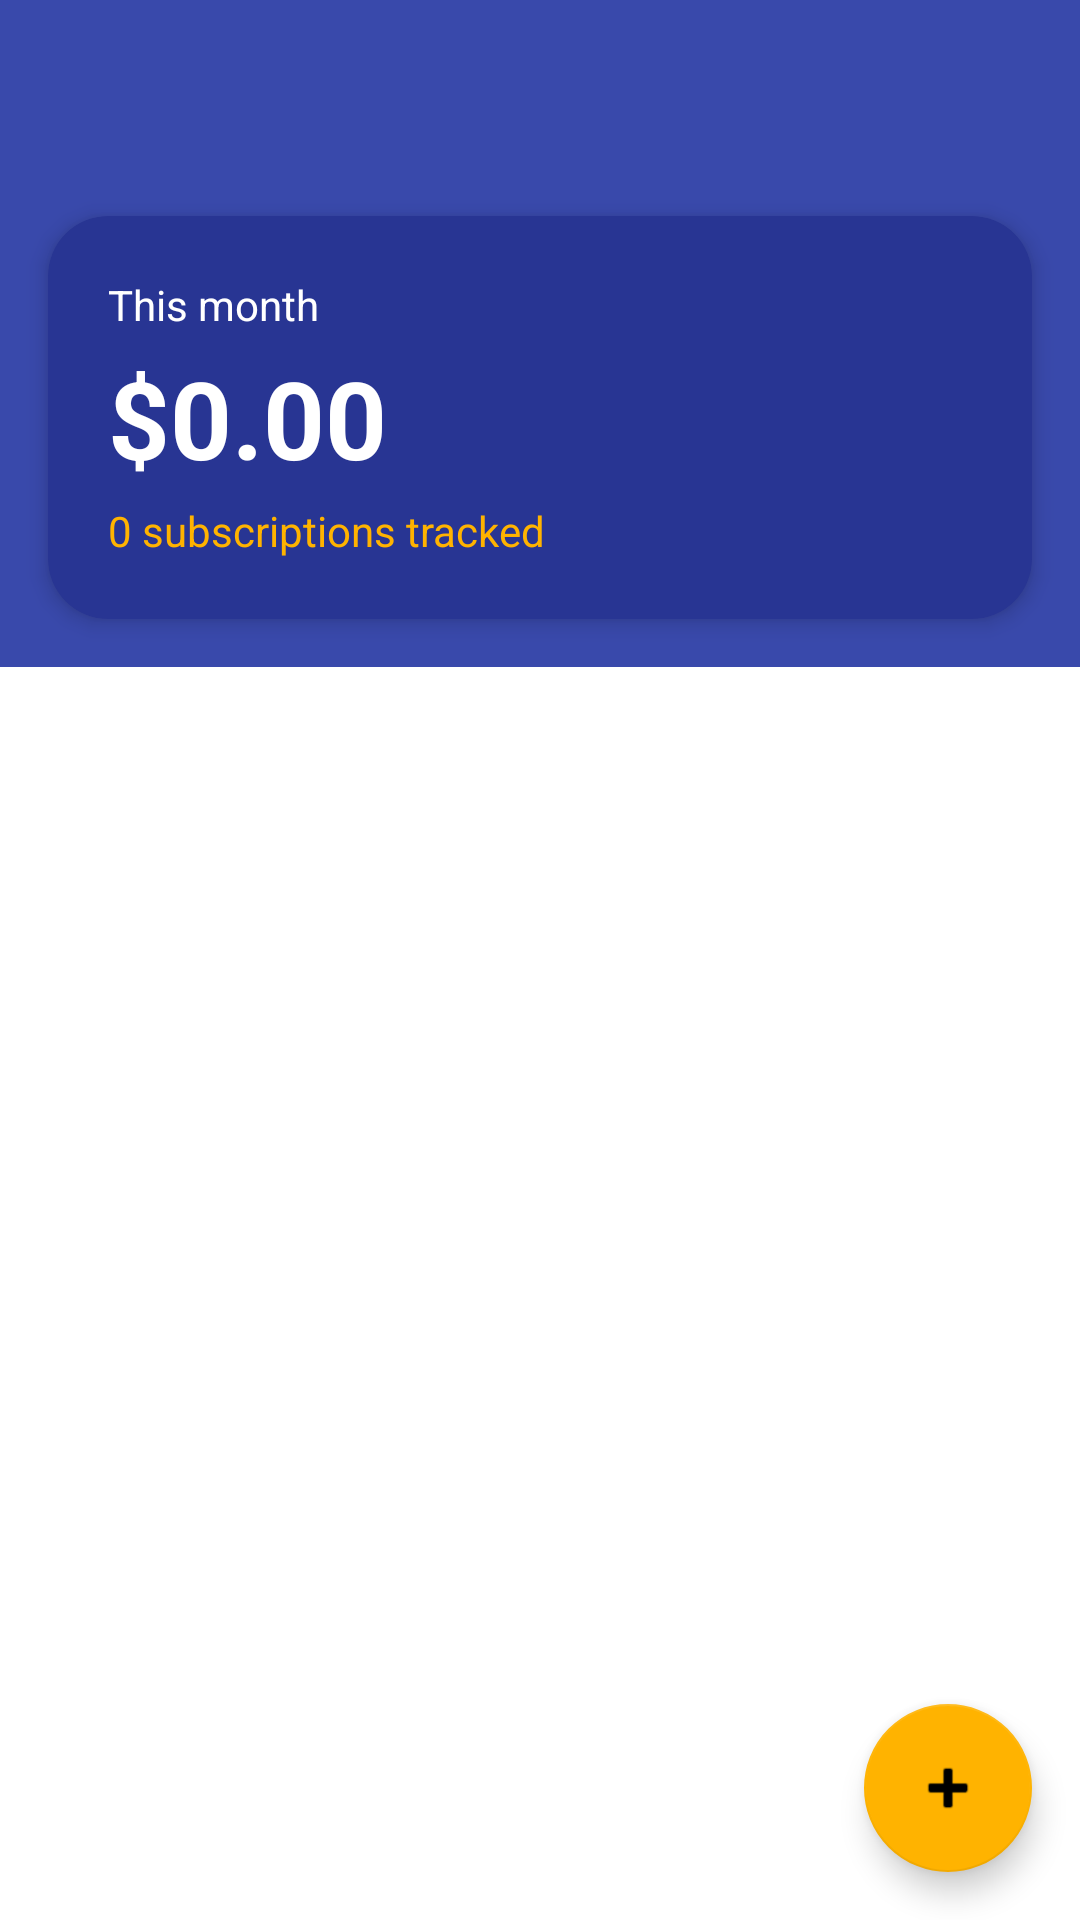

Screen size 1080*1920. Icon name, then its box in pixels as box(x1, y1, x2, y2):
Add subscription: box(864, 1704, 1032, 1872)
